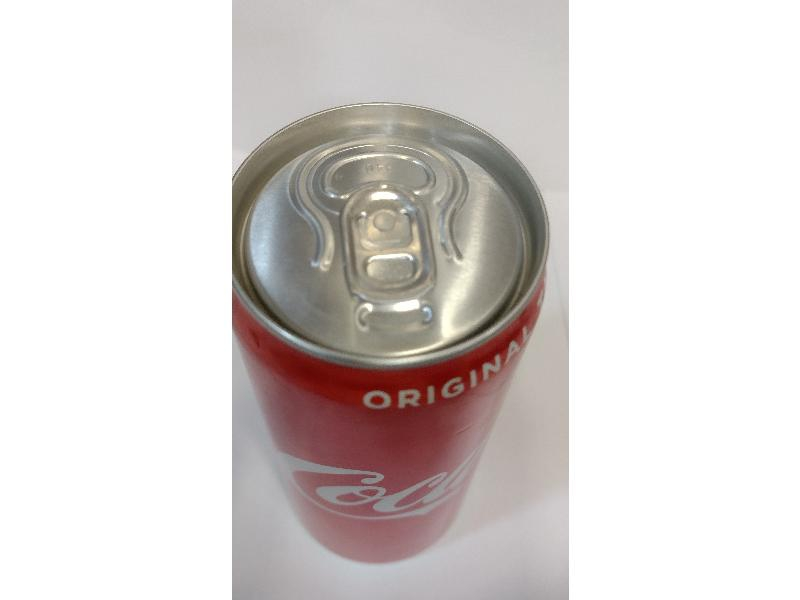can: (232, 99, 550, 562)
